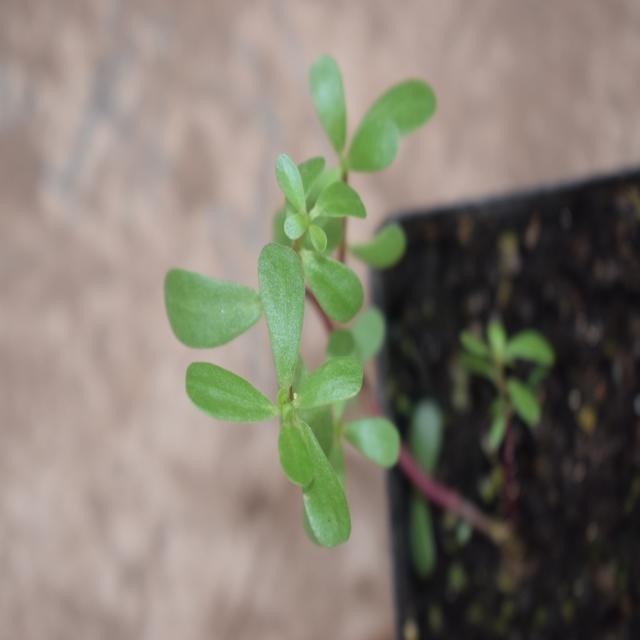purslane: (166, 56, 441, 547)
